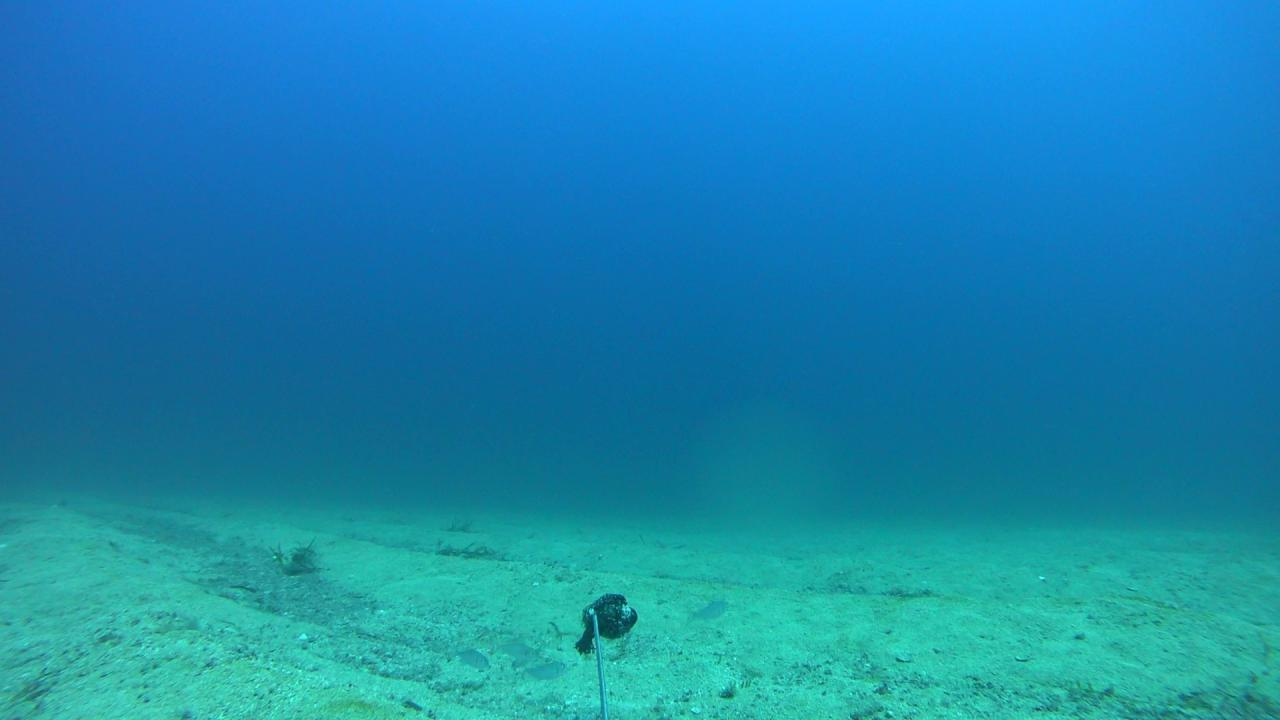pagellus: (486, 639, 541, 663), (685, 599, 729, 625), (450, 648, 494, 674), (517, 661, 568, 682)
